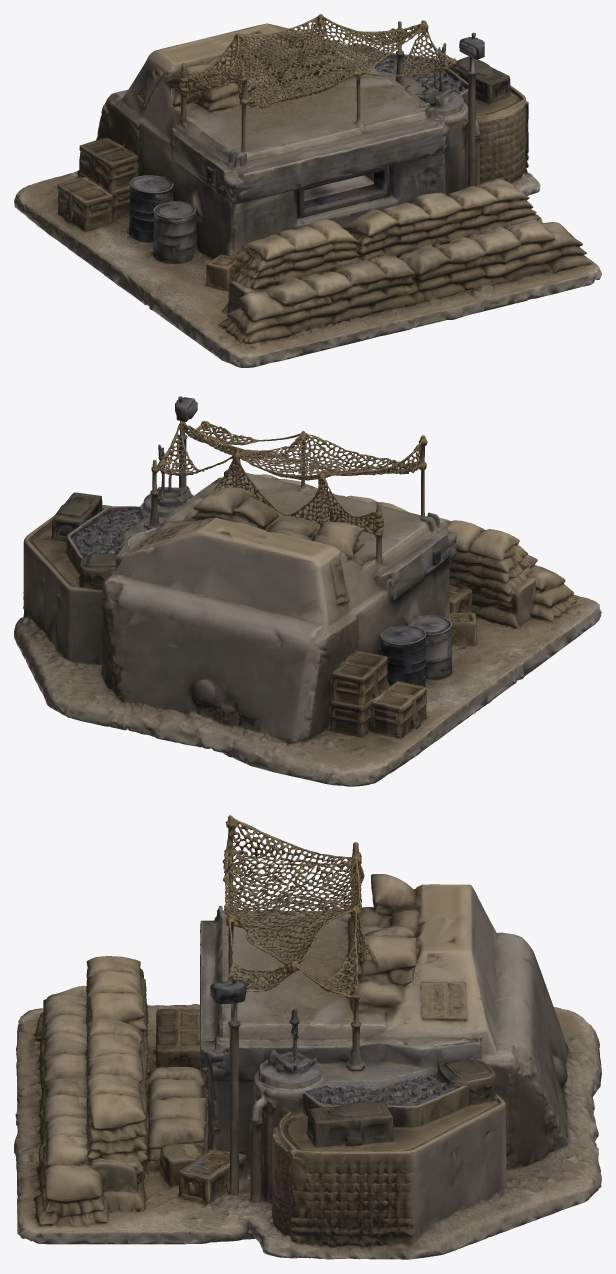
The model's file is bunker_sandbag.glb.
3 renders of one model, top to bottom at view 1: azimuth 30°, elevation 25°; view 2: azimuth 150°, elevation 25°; view 3: azimuth 270°, elevation 25°, orthographic. The views are drawn at different scales.
Visible parts, largest first — view 1: bunker_sandbag; view 2: bunker_sandbag; view 3: bunker_sandbag.
Boxes of the visible parts, <box> form: bunker_sandbag: <box>14,14,601,367</box>; bunker_sandbag: <box>14,396,601,786</box>; bunker_sandbag: <box>14,815,601,1259</box>.
Size of the model in its own units: 1.89 by 0.9322 by 1.9.
1 material, 1 textured.
